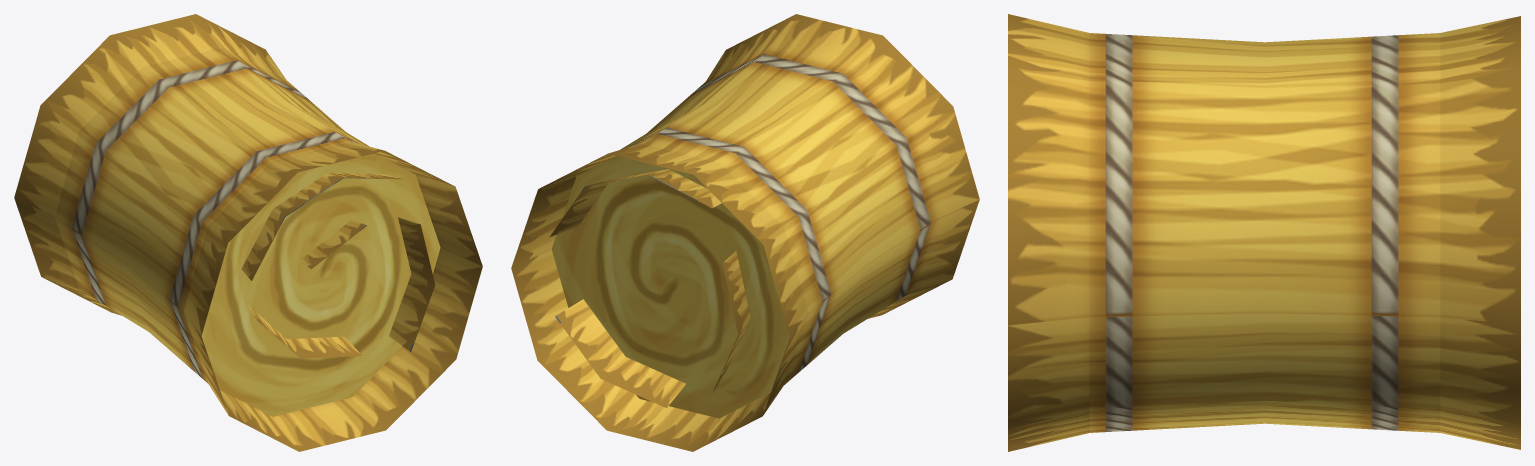
Rendered from hay_stack_02.fbx.
3 renders of one model, left to right at view 1: azimuth 30°, elevation 25°; view 2: azimuth 150°, elevation 25°; view 3: azimuth 270°, elevation 25°, orthographic. The views are drawn at different scales.
Visible parts, largest first — view 1: hay_stack_02:Mesh; view 2: hay_stack_02:Mesh; view 3: hay_stack_02:Mesh.
Part boxes in pixels (x1=…): hay_stack_02:Mesh: x1=14, y1=14, x2=482, y2=451; hay_stack_02:Mesh: x1=511, y1=14, x2=979, y2=451; hay_stack_02:Mesh: x1=1008, y1=14, x2=1520, y2=451.
Bounding box in the file's own units: 2.62 × 2.5 × 3.05.
